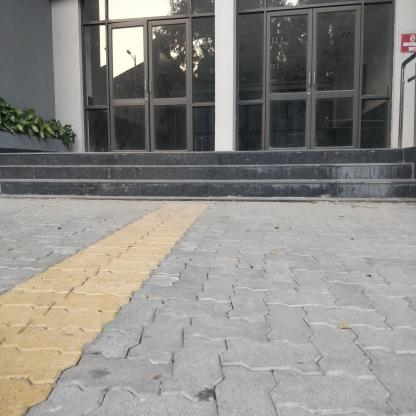stairs: (8, 147, 404, 209)
